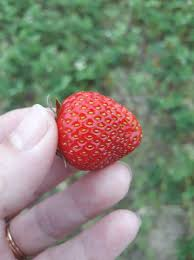ripe: (48, 93, 147, 170)
